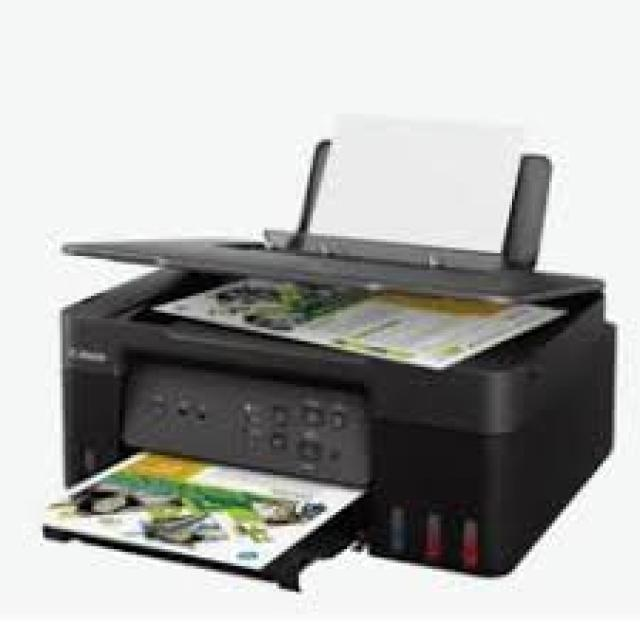printer: (40, 114, 617, 592)
